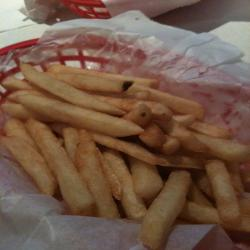fries: (8, 66, 250, 238)
